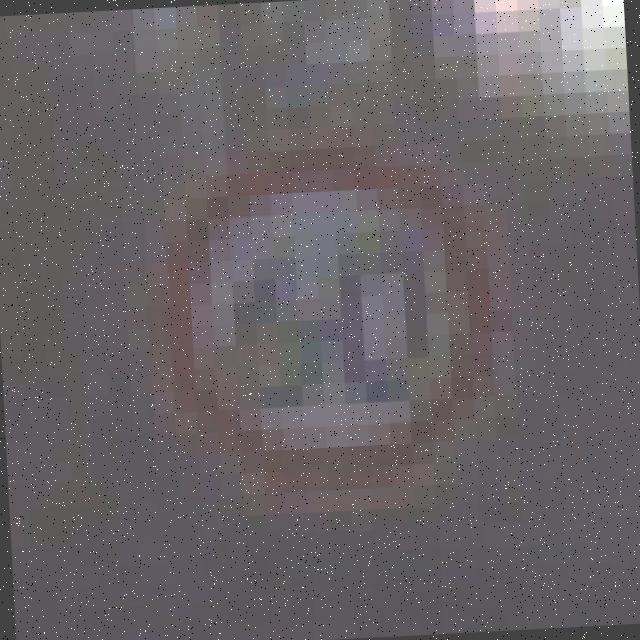Ograniczenie predkosci do 60: (145, 146, 497, 502)
